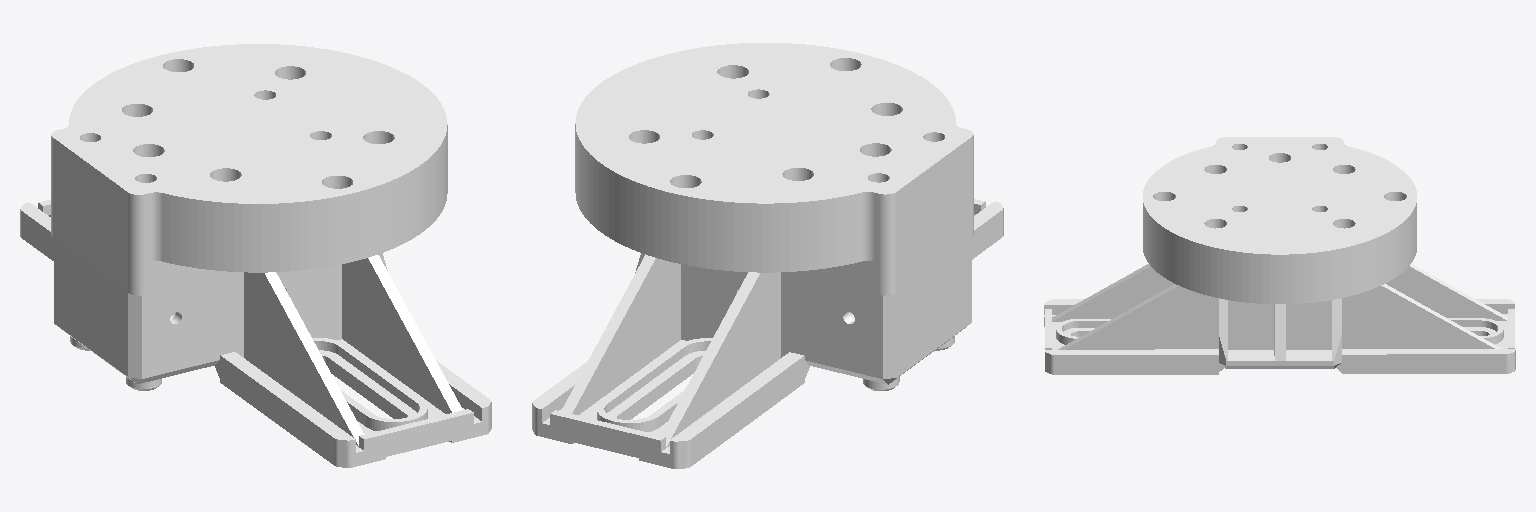
The robot description file, URDF, robot "lite6":
<robot name="lite6">
    <material name="White">
        <color rgba="1.0 1.0 1.0 1.0" />
    </material>
    <material name="Silver">
        <color rgba="0.753 0.753 0.753 1.0" />
    </material>
    <link name="link_base">
        <inertial>
            <origin xyz="-0.00829544579053192 3.26357432323433E-05 0.0631194584987089" rpy="0 0 0" />
            <mass value="2.11" />
            <inertia ixx="0" ixy="0" ixz="0" iyy="0" iyz="0" izz="0" />
        </inertial>
        <visual>
            <origin xyz="0 0 0" rpy="0 0 0" />
            <geometry>
                <mesh filename="package://xarm_description/meshes/lite6/visual/base.stl" />
            </geometry>
            <material name="White" />
        </visual>
        <collision>
            <origin xyz="0 0 0" rpy="0 0 0" />
            <geometry>
                <mesh filename="package://xarm_description/meshes/lite6/collision/base.stl" />
            </geometry>
        </collision>
    </link>
    <link name="link1">
        <inertial>
            <origin xyz="-0.00036 0.042 -0.0025" rpy="0 0 0" />
            <mass value="1.411" />
            <inertia ixx="1.45164E-03" ixy="1.24E-05" ixz="-6.7E-06" iyy="8.873E-04" iyz="1.255E-04" izz="1.31993E-03" />
        </inertial>
        <visual>
            <origin xyz="0 0 0" rpy="0 0 0" />
            <geometry>
                <mesh filename="package://xarm_description/meshes/lite6/visual/link1.stl" />
            </geometry>
            <material name="White" />
        </visual>
        <collision>
            <origin xyz="0 0 0" rpy="0 0 0" />
            <geometry>
                <mesh filename="package://xarm_description/meshes/lite6/collision/link1.stl" />
            </geometry>
        </collision>
    </link>
    <joint name="joint1" type="revolute">
        <origin xyz="0 0 0.2433" rpy="0 0 0" />
        <parent link="link_base" />
        <child link="link1" />
        <axis xyz="0 0 1" />
        <limit lower="-6.28" upper="6.28" effort="32.0" velocity="3.14" />
        <dynamics damping="1.0" friction="1.0" />
    </joint>
    <link name="link2">
        <inertial>
            <origin xyz="0.179 0.0 0.0584" rpy="0 0 0" />
            <mass value="1.34" />
            <inertia ixx="1.5854E-03" ixy="-6.766E-06" ixz="-1.15136E-03" iyy="5.6097E-03" iyz="1.14E-06" izz="4.85E-03" />
        </inertial>
        <visual>
            <origin xyz="0 0 0" rpy="0 0 0" />
            <geometry>
                <mesh filename="package://xarm_description/meshes/lite6/visual/link2.stl" />
            </geometry>
            <material name="White" />
        </visual>
        <collision>
            <origin xyz="0 0 0" rpy="0 0 0" />
            <geometry>
                <mesh filename="package://xarm_description/meshes/lite6/collision/link2.stl" />
            </geometry>
        </collision>
    </link>
    <joint name="joint2" type="revolute">
        <origin xyz="0 0 0" rpy="1.5708 -1.5708 3.1416" />
        <parent link="link1" />
        <child link="link2" />
        <axis xyz="0 0 1" />
        <limit lower="-2.61799" upper="2.61799" effort="32.0" velocity="3.14" />
        <dynamics damping="1.0" friction="1.0" />
    </joint>
    <link name="link3">
        <inertial>
            <origin xyz="0.072 -0.036 -0.001" rpy="0 0 0" />
            <mass value="0.953" />
            <inertia ixx="8.861E-04" ixy="-3.9287E-04" ixz="7.066E-05" iyy="1.5785E-03" iyz="-2.445E-05" izz="1.84677E-03" />
        </inertial>
        <visual>
            <origin xyz="0 0 0" rpy="0 0 0" />
            <geometry>
                <mesh filename="package://xarm_description/meshes/lite6/visual/link3.stl" />
            </geometry>
            <material name="White" />
        </visual>
        <collision>
            <origin xyz="0 0 0" rpy="0 0 0" />
            <geometry>
                <mesh filename="package://xarm_description/meshes/lite6/collision/link3.stl" />
            </geometry>
        </collision>
    </link>
    <joint name="joint3" type="revolute">
        <origin xyz="0.2 0 0" rpy="-3.1416 0 1.5708" />
        <parent link="link2" />
        <child link="link3" />
        <axis xyz="0 0 1" />
        <limit lower="-0.061087" upper="5.235988" effort="18.0" velocity="3.14" />
        <dynamics damping="1.0" friction="1.0" />
    </joint>
    <link name="link4">
        <inertial>
            <origin xyz="-0.002 -0.0285 -0.0813" rpy="0 0 0" />
            <mass value="1.284" />
            <inertia ixx="3.705E-03" ixy="-2.0E-06" ixz="7.17E-06" iyy="3.0455E-03" iyz="-9.3188E-04" izz="1.5413E-03" />
        </inertial>
        <visual>
            <origin xyz="0 0 0" rpy="0 0 0" />
            <geometry>
                <mesh filename="package://xarm_description/meshes/lite6/visual/link4.stl" />
            </geometry>
            <material name="White" />
        </visual>
        <collision>
            <origin xyz="0 0 0" rpy="0 0 0" />
            <geometry>
                <mesh filename="package://xarm_description/meshes/lite6/collision/link4.stl" />
            </geometry>
        </collision>
    </link>
    <joint name="joint4" type="revolute">
        <origin xyz="0.087 -0.2276 0" rpy="1.5708 0 0" />
        <parent link="link3" />
        <child link="link4" />
        <axis xyz="0 0 1" />
        <limit lower="-6.28" upper="6.28" effort="2.5" velocity="3.14" />
        <dynamics damping="0.1" friction="0.1" />
    </joint>
    <link name="link5">
        <inertial>
            <origin xyz="0.0 0.010 0.0019" rpy="0 0 0" />
            <mass value="0.804" />
            <inertia ixx="5.668E-04" ixy="6E-07" ixz="-5.3E-06" iyy="5.077E-04" iyz="-4.8E-07" izz="5.3E-04" />
        </inertial>
        <visual>
            <origin xyz="0 0 0" rpy="0 0 0" />
            <geometry>
                <mesh filename="package://xarm_description/meshes/lite6/visual/link5.stl" />
            </geometry>
            <material name="Silver" />
        </visual>
        <collision>
            <origin xyz="0 0 0" rpy="0 0 0" />
            <geometry>
                <mesh filename="package://xarm_description/meshes/lite6/collision/link5.stl" />
            </geometry>
        </collision>
    </link>
    <joint name="joint5" type="revolute">
        <origin xyz="0 0 0" rpy="1.5708 0 0" />
        <parent link="link4" />
        <child link="link5" />
        <axis xyz="0 0 1" />
        <limit lower="-2.1642" upper="2.1642" effort="2.5" velocity="3.14" />
        <dynamics damping="0.1" friction="0.1" />
    </joint>
    <link name="link6">
        <inertial>
            <origin xyz="0.0 -0.00194 -0.0102" rpy="0 0 0" />
            <mass value="0.180" />
            <inertia ixx="7.726E-05" ixy="1E-06" ixz="4E-07" iyy="8.5665E-05" iyz="-6E-07" izz="1.4814E-04" />
        </inertial>
        <visual>
            <origin xyz="0 0 0" rpy="0 0 0" />
            <geometry>
                <mesh filename="package://xarm_description/meshes/lite6/visual/link6.stl" />
            </geometry>
            <material name="Silver" />
        </visual>
        <collision>
            <origin xyz="0 0 0" rpy="0 0 0" />
            <geometry>
                <mesh filename="package://xarm_description/meshes/lite6/collision/link6.stl" />
            </geometry>
        </collision>
    </link>
    <joint name="joint6" type="revolute">
        <origin xyz="0 0.0615 0" rpy="-1.5708 0 0" />
        <parent link="link5" />
        <child link="link6" />
        <axis xyz="0 0 1" />
        <limit lower="-6.28" upper="6.28" effort="2.5" velocity="3.14" />
        <dynamics damping="0.1" friction="0.1" />
    </joint>
    #########################################
    <!-- Coupler + Gripper Base -->
    <link name="lite6_gripper_link">
        <inertial>
            <origin xyz="0 0 0" rpy="0 0 0" />
            <mass value="0.05" />
            <inertia ixx="1.0e-05" ixy="0" ixz="0" iyy="1.0e-05" iyz="0" izz="1.0e-05" />
        </inertial>
        <visual>
            <origin xyz="0 0 0.01491" rpy="0 -3.14159 0" />
            <geometry>
                <mesh filename="package://xarm_description/meshes/lite6/visual/coupler.stl" scale="0.001 0.001 0.001" />
            </geometry>
            <material name="White" />
        </visual>
        <collision>
            <origin xyz="0 0 0.01491" rpy="0 -3.14159 0" />
            <geometry>
                <mesh filename="package://xarm_description/meshes/lite6/collision/coupler.stl" scale="0.001 0.001 0.001" />
            </geometry>
        </collision>
        <visual>
            <origin xyz="0.21 0 -0.1491" rpy="0 -1.5708 0" />
            <geometry>
                <mesh filename="package://xarm_description/meshes/lite6/visual/omx_gripper_base.stl" />
            </geometry>
            <material name="White" />
        </visual>
        <collision>
            <origin xyz="0.21 0 -0.1491" rpy="0 -1.5708 0" />
            <geometry>
                <mesh filename="package://xarm_description/meshes/lite6/collision/omx_gripper_base.stl" />
            </geometry>
        </collision>
    </link>
    <joint name="joint_gripper_mount" type="fixed">
        <origin xyz="0 0 0" rpy="0 0 0" />
        <parent link="link6" />
        <child link="lite6_gripper_link" />
    </joint>
    <!-- Left Finger -->
    <link name="omx_gripper_left_finger_link">
        <inertial>
            <origin xyz="0 0 -0.0191" rpy="0 0 0" />
            <mass value="0.001" />
            <inertia ixx="1.0e-06" ixy="0" ixz="0" iyy="1.0e-06" iyz="0" izz="1.0e-06" />
        </inertial>
        <visual>
            <origin xyz="0 0 -0.0191" rpy="0 -1.5708 0" />
            <geometry>
                <mesh filename="package://xarm_description/meshes/lite6/visual/omx_gripper_left_finger.stl" scale="0.001 0.001 0.001" />
            </geometry>
            <material name="White" />
        </visual>
        <collision>
            <origin xyz="0 0 -0.0191" rpy="0 -1.5708 0" />
            <geometry>
                <mesh filename="package://xarm_description/meshes/lite6/collision/omx_gripper_left_finger.stl" scale="0.001 0.001 0.001" />
            </geometry>
        </collision>
    </link>
    <joint name="left_finger_joint" type="prismatic">
        <origin xyz="0.0 0.021 0.0817" rpy="0 0 0" />
        <parent link="lite6_gripper_link" />
        <child link="omx_gripper_left_finger_link" />
        <axis xyz="0 1 0" />
        <limit velocity="4.8" effort="1" lower="-0.010" upper="0.019" />
        <mimic joint="right_finger_joint" multiplier="-1" offset="0" />
        <dynamics damping="0.1" />
    </joint>
    <!-- Right Finger -->
    <link name="omx_gripper_right_finger_link">
        <inertial>
            <origin xyz="0 0 -0.0191" rpy="0 0 0" />
            <mass value="0.001" />
            <inertia ixx="1.0e-06" ixy="0" ixz="0" iyy="1.0e-06" iyz="0" izz="1.0e-06" />
        </inertial>
        <visual>
            <origin xyz="0 0 -0.0191" rpy="0 -1.5708 0" />
            <geometry>
                <mesh filename="package://xarm_description/meshes/lite6/visual/omx_gripper_right_finger.stl" scale="0.001 0.001 0.001" />
            </geometry>
            <material name="White" />
        </visual>
        <collision>
            <origin xyz="0 0 -0.0191" rpy="0 -1.5708 0" />
            <geometry>
                <mesh filename="package://xarm_description/meshes/lite6/collision/omx_gripper_right_finger.stl" scale="0.001 0.001 0.001" />
            </geometry>
        </collision>
    </link>
    <joint name="right_finger_joint" type="prismatic">
        <origin xyz="0.0 -0.021 0.0817" rpy="0 0 0" />
        <parent link="lite6_gripper_link" />
        <child link="omx_gripper_right_finger_link" />
        <axis xyz="0 -1 0" />
        <limit velocity="4.8" effort="1" lower="-0.010" upper="0.019" />
        <dynamics damping="0.1" />
    </joint>
    <!-- End Effector Placeholder -->
    <link name="link_eef" />
    <joint name="joint_eef" type="fixed">
        <origin xyz="0 0 0" rpy="0 0 0" />
        <parent link="lite6_gripper_link" />
        <child link="link_eef" />
    </joint>
    <transmission name="trans_joint1">
        <type>transmission_interface/SimpleTransmission</type>
        <joint name="joint1">
            <hardwareInterface>hardware_interface/EffortJointInterface</hardwareInterface>
        </joint>
        <actuator name="joint1_motor">
            <hardwareInterface>hardware_interface/EffortJointInterface</hardwareInterface>
            <mechanicalReduction>1</mechanicalReduction>
        </actuator>
    </transmission>
    <transmission name="trans_joint2">
        <type>transmission_interface/SimpleTransmission</type>
        <joint name="joint2">
            <hardwareInterface>hardware_interface/EffortJointInterface</hardwareInterface>
        </joint>
        <actuator name="joint2_motor">
            <hardwareInterface>hardware_interface/EffortJointInterface</hardwareInterface>
            <mechanicalReduction>1</mechanicalReduction>
        </actuator>
    </transmission>
    <transmission name="trans_joint3">
        <type>transmission_interface/SimpleTransmission</type>
        <joint name="joint3">
            <hardwareInterface>hardware_interface/EffortJointInterface</hardwareInterface>
        </joint>
        <actuator name="joint3_motor">
            <hardwareInterface>hardware_interface/EffortJointInterface</hardwareInterface>
            <mechanicalReduction>1</mechanicalReduction>
        </actuator>
    </transmission>
    <transmission name="trans_joint4">
        <type>transmission_interface/SimpleTransmission</type>
        <joint name="joint4">
            <hardwareInterface>hardware_interface/EffortJointInterface</hardwareInterface>
        </joint>
        <actuator name="joint4_motor">
            <hardwareInterface>hardware_interface/EffortJointInterface</hardwareInterface>
            <mechanicalReduction>1</mechanicalReduction>
        </actuator>
    </transmission>
    <transmission name="trans_joint5">
        <type>transmission_interface/SimpleTransmission</type>
        <joint name="joint5">
            <hardwareInterface>hardware_interface/EffortJointInterface</hardwareInterface>
        </joint>
        <actuator name="joint5_motor">
            <hardwareInterface>hardware_interface/EffortJointInterface</hardwareInterface>
            <mechanicalReduction>1</mechanicalReduction>
        </actuator>
    </transmission>
    <transmission name="trans_joint6">
        <type>transmission_interface/SimpleTransmission</type>
        <joint name="joint6">
            <hardwareInterface>hardware_interface/EffortJointInterface</hardwareInterface>
        </joint>
        <actuator name="joint6_motor">
            <hardwareInterface>hardware_interface/EffortJointInterface</hardwareInterface>
            <mechanicalReduction>1</mechanicalReduction>
        </actuator>
    </transmission>
    <transmission name="trans_left_finger_joint">
        <type>transmission_interface/SimpleTransmission</type>
        <joint name="left_finger_joint">
            <hardwareInterface>hardware_interface/EffortJointInterface</hardwareInterface>
        </joint>
        <actuator name="left_finger_joint_motor">
            <hardwareInterface>hardware_interface/EffortJointInterface</hardwareInterface>
            <mechanicalReduction>1</mechanicalReduction>
        </actuator>
    </transmission>
    <transmission name="trans_right_finger_joint">
        <type>transmission_interface/SimpleTransmission</type>
        <joint name="right_finger_joint">
            <hardwareInterface>hardware_interface/EffortJointInterface</hardwareInterface>
        </joint>
        <actuator name="right_finger_joint_motor">
            <hardwareInterface>hardware_interface/EffortJointInterface</hardwareInterface>
            <mechanicalReduction>1</mechanicalReduction>
        </actuator>
    </transmission>
    <gazebo>
        <plugin name="gazebo_ros_control" filename="libgazebo_ros_control.so">
            <robotNamespace>/</robotNamespace>
        </plugin>
    </gazebo>
</robot>

--- Facts derived from the render (not from the file) ---
Views: 3 orthographic renders of the robot side by side, from view 1: azimuth 30°, elevation 25°; view 2: azimuth 150°, elevation 25°; view 3: azimuth 270°, elevation 25°.
Model lite6 with 11 links and 10 joints (6 revolute, 2 prismatic, 2 fixed), rooted at link_base, posed every joint at zero.
Links seen in each view (by area): view 1: lite6_gripper_link; view 2: lite6_gripper_link; view 3: lite6_gripper_link.
Link boxes in pixels (left/top/right/bottom): lite6_gripper_link: left=20, top=44, right=491, bottom=467; lite6_gripper_link: left=532, top=43, right=1003, bottom=468; lite6_gripper_link: left=1044, top=137, right=1515, bottom=374.
Bounding box of the posed robot: 0.0758 × 0.1286 × 0.0464 m (x, y, z).
Meshes: 11 distinct files referenced, 2 mesh visuals loaded (2 binary STL); not drawn: 9 (reference not matched to a file when rendering).